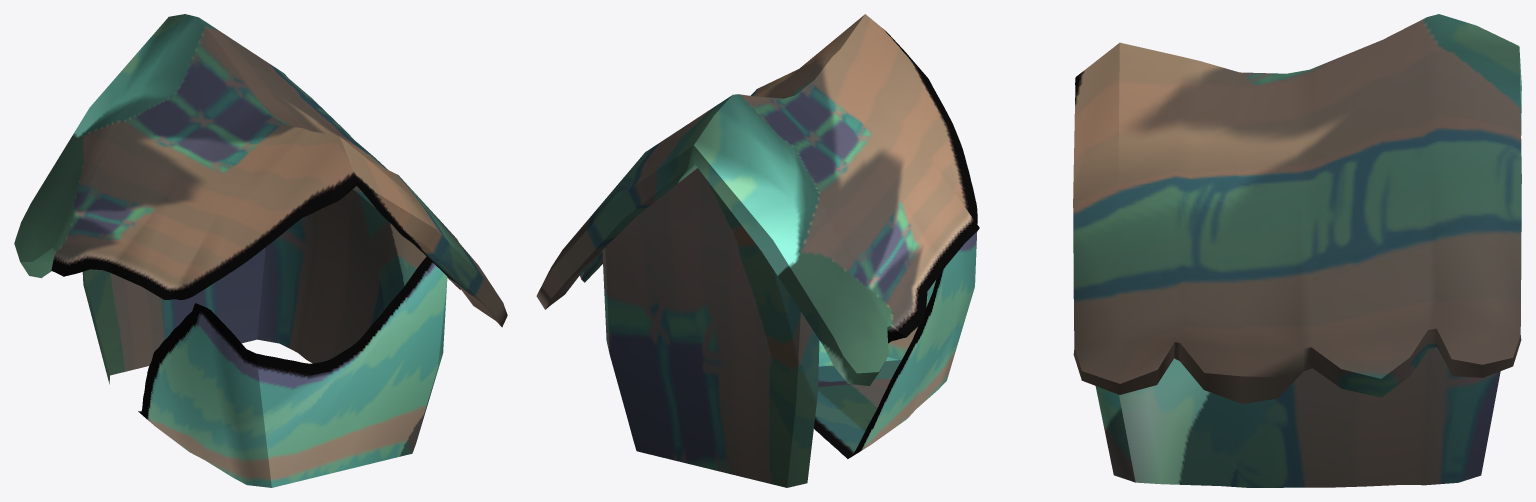
The model's file is Beachhut@special.fbx.
The picture shows the model from 3 angles, left to right: view 1: azimuth 30°, elevation 25°; view 2: azimuth 150°, elevation 25°; view 3: azimuth 270°, elevation 25°; orthographic projection. The views are drawn at different scales.
Parts seen in each view (by area): view 1: beach_hut; view 2: beach_hut; view 3: beach_hut.
Boxes of the visible parts, bbox=[...] form: beach_hut: bbox=[14, 14, 507, 487]; beach_hut: bbox=[536, 14, 979, 487]; beach_hut: bbox=[1073, 14, 1521, 487].
Bounding box in the file's own units: 244 × 235 × 229.
